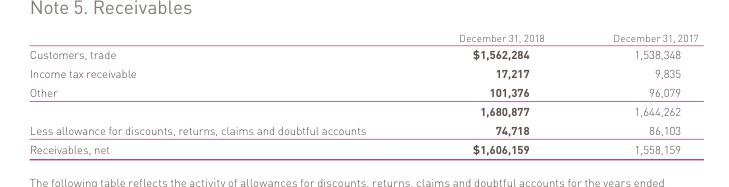table: (28, 29, 697, 155)
table column: (28, 29, 411, 155), (411, 29, 577, 155), (577, 29, 697, 155)
table column header: (28, 29, 697, 43)
table row: (28, 43, 697, 62), (28, 62, 697, 81), (28, 81, 697, 100), (28, 100, 697, 119), (28, 119, 697, 138), (28, 138, 697, 155), (28, 29, 697, 43)
